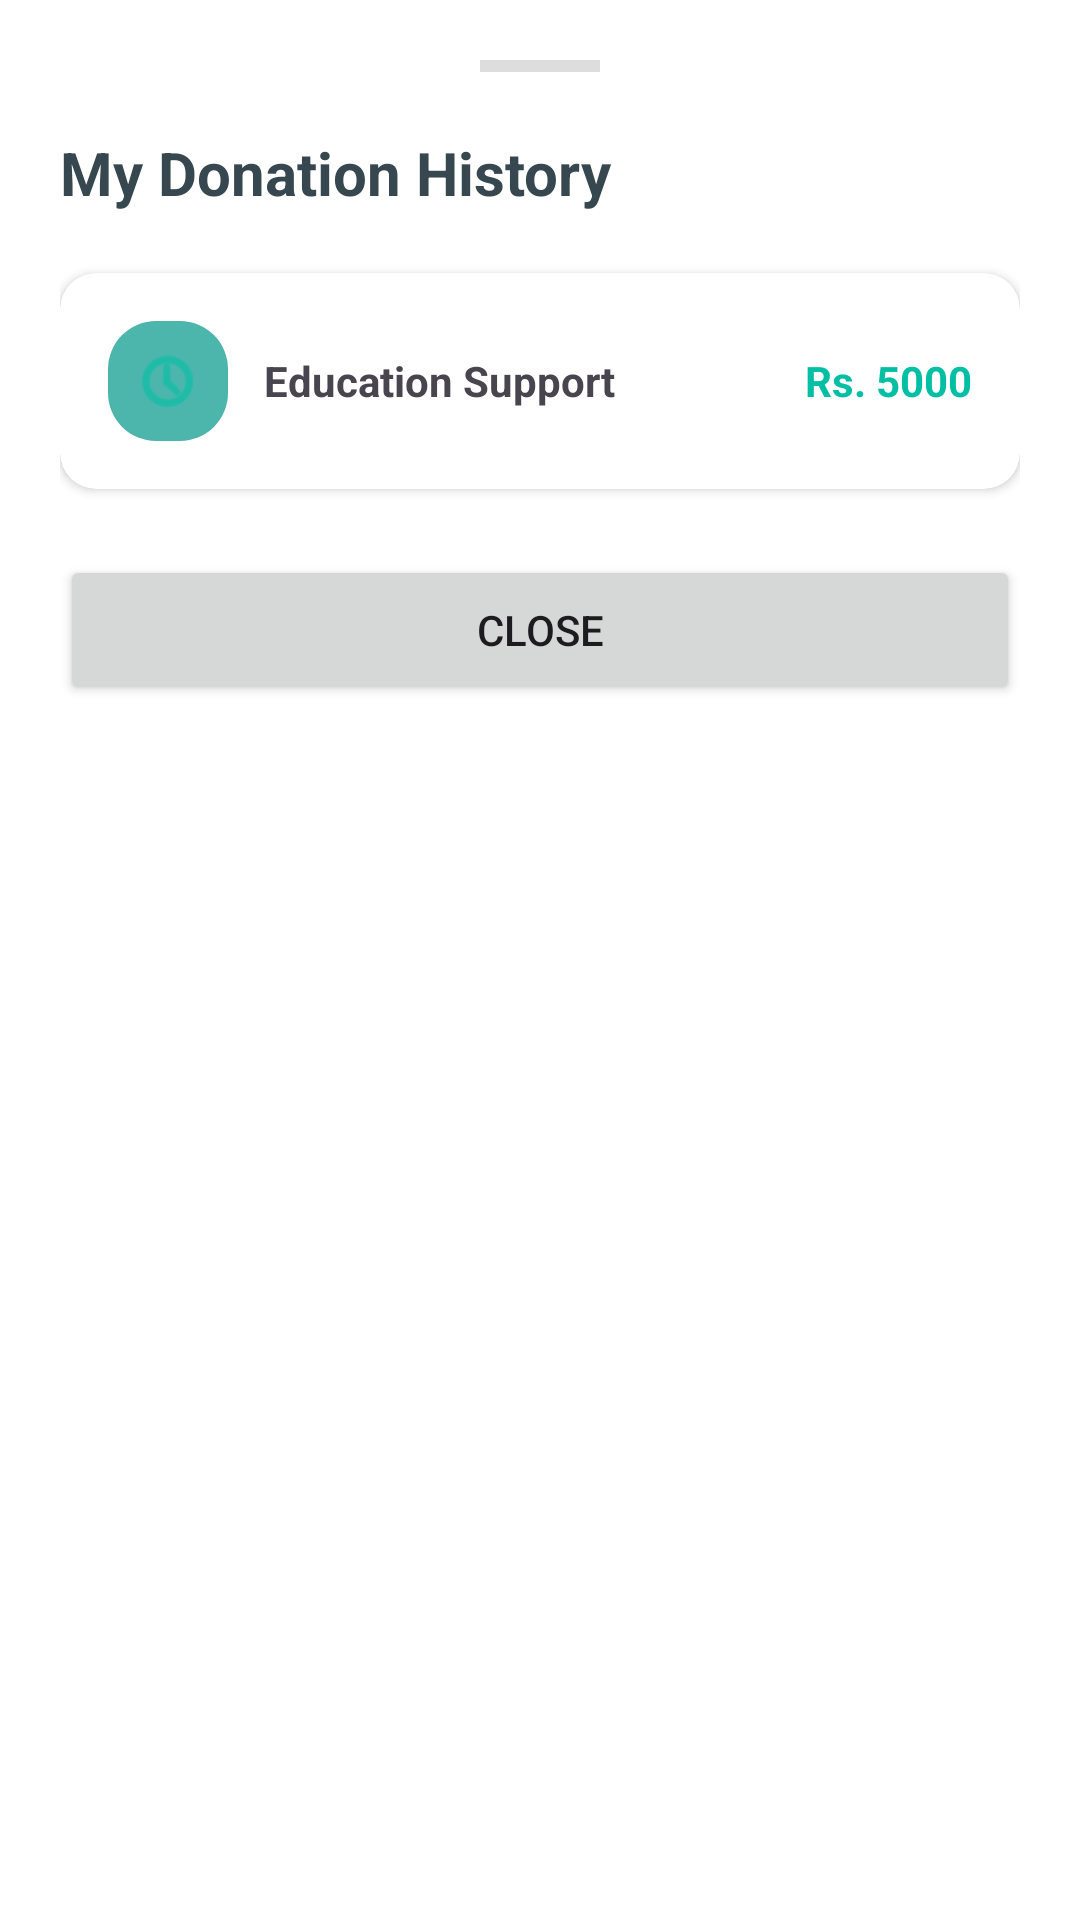

Screen size 1080 × 1920. Icon name, then its box in pixels as detection(x1, y1, x2, y2):
recent history: detection(108, 321, 228, 441)
